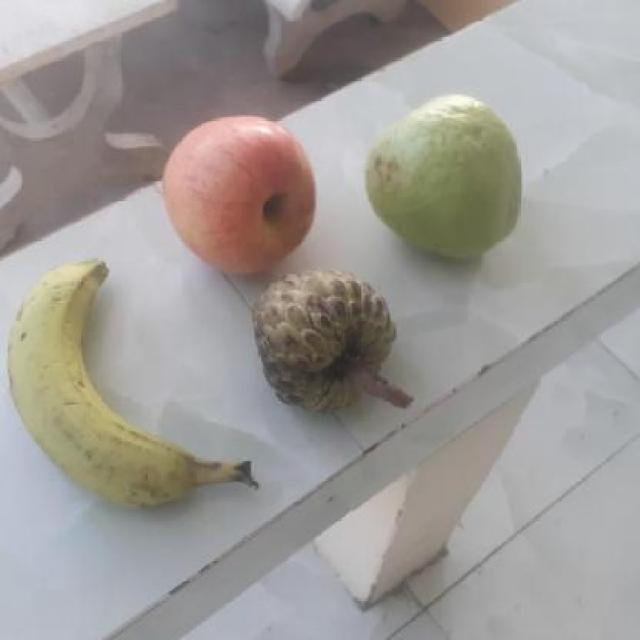apple: (154, 113, 323, 269)
banana: (7, 256, 247, 512)
guava: (372, 97, 526, 258)
sugar apple: (255, 268, 407, 417)
